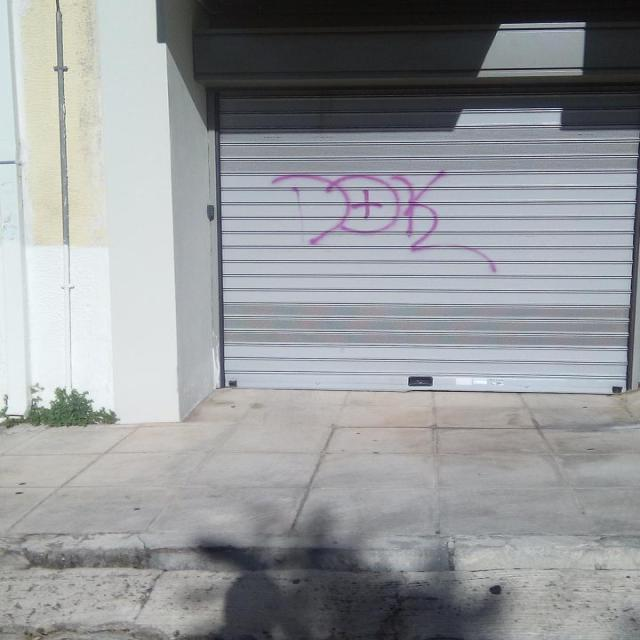nonspitting: (271, 170, 498, 272)
